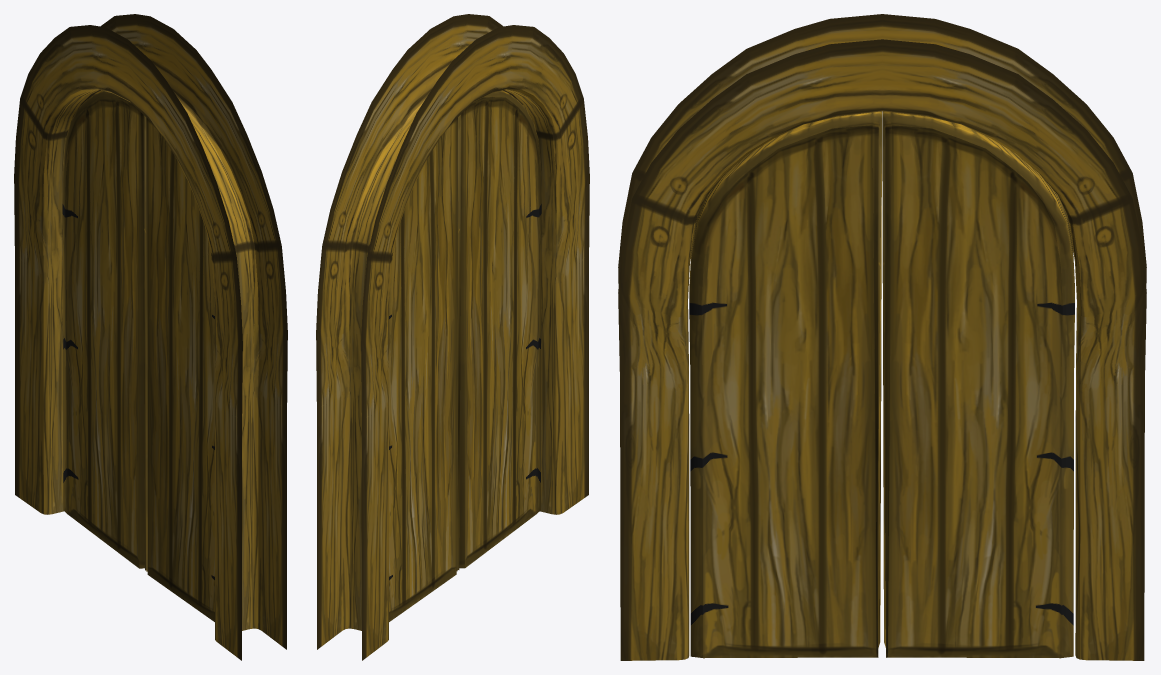
Rendered from DoorA.FBX.
3 views of the same model, side by side, from view 1: azimuth 30°, elevation 25°; view 2: azimuth 150°, elevation 25°; view 3: azimuth 270°, elevation 25° (orthographic). The views are drawn at different scales.
Visible parts, largest first — view 1: DoorA_Frame, DoorA_L, DoorA_R; view 2: DoorA_Frame, DoorA_R, DoorA_L; view 3: DoorA_Frame, DoorA_R, DoorA_L.
Part boxes in pixels (left/top/right/bottom): DoorA_Frame: left=14, top=14, right=287, bottom=660; DoorA_L: left=62, top=90, right=146, bottom=570; DoorA_R: left=146, top=117, right=215, bottom=621; DoorA_Frame: left=316, top=14, right=589, bottom=660; DoorA_R: left=457, top=90, right=541, bottom=569; DoorA_L: left=388, top=117, right=457, bottom=621; DoorA_Frame: left=618, top=14, right=1146, bottom=660; DoorA_R: left=689, top=111, right=881, bottom=658; DoorA_L: left=882, top=111, right=1074, bottom=658.
Bounding box in the file's own units: 0.1985 × 1.72 × 2.23.
